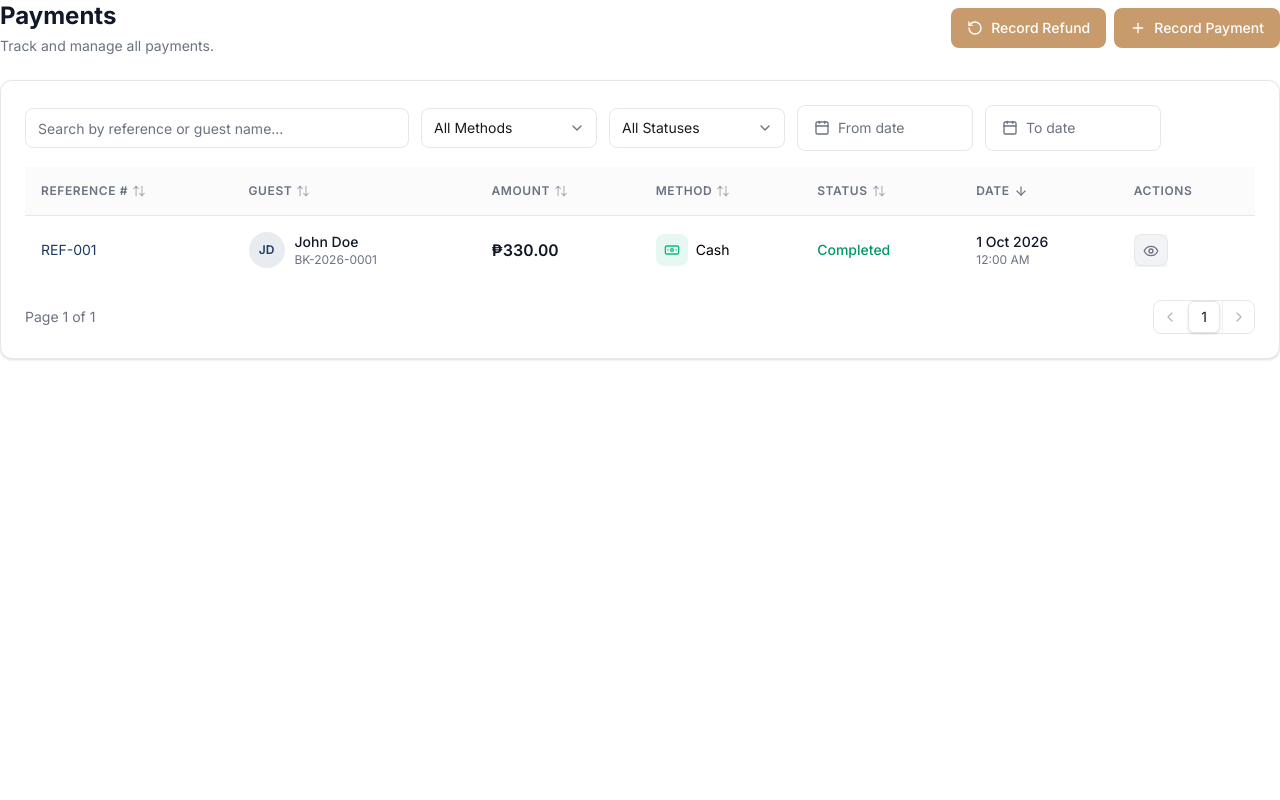
Scenario: PaymentsPage › opens the payment detail modal from a reference link
The width and height of the screenshot is (1280, 800).
Click the button "REF-001": (69, 250) [41,240,96,260]
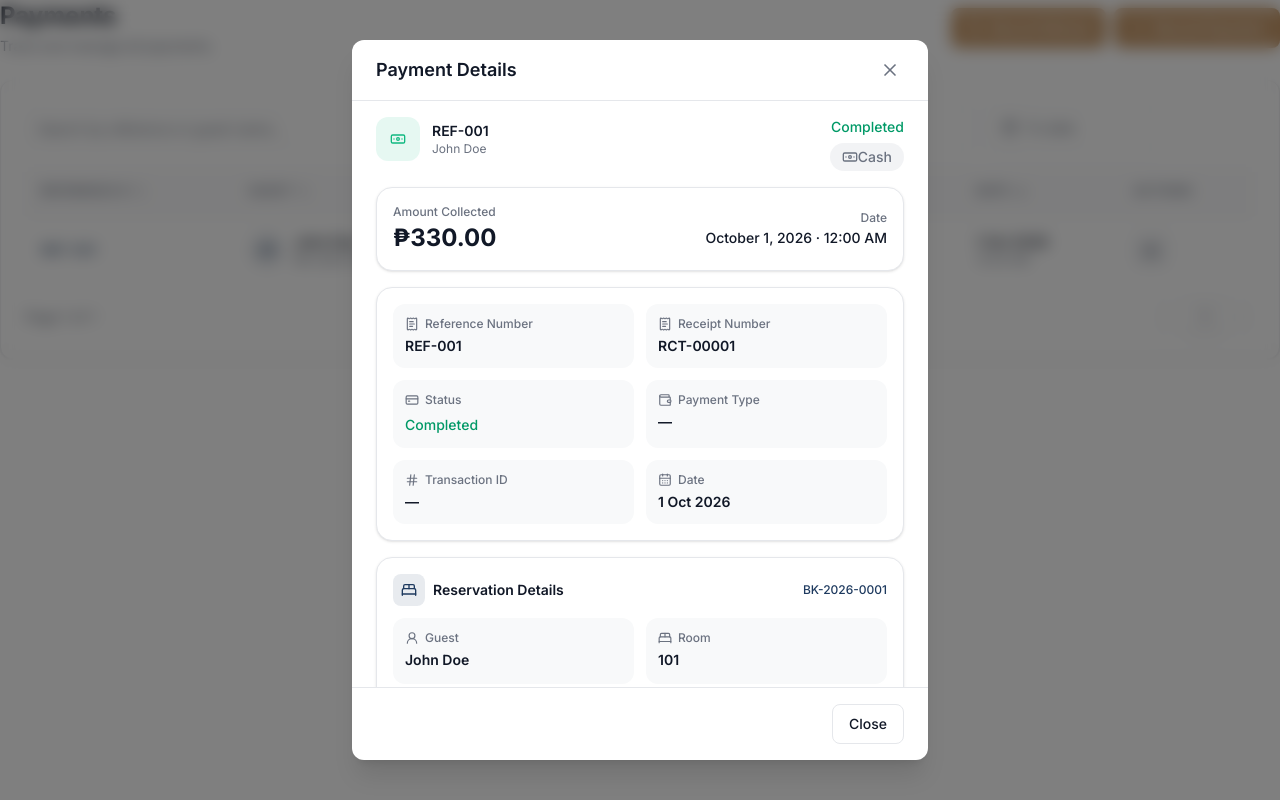
Check: the text "₱330.00" in the row of "JD" is shown, box [492,240,559,260]
Check: the heading "Payment Details" is shown, box [376,56,517,84]
Check: the text "Reference Number" is shown, box [405,316,533,331]
